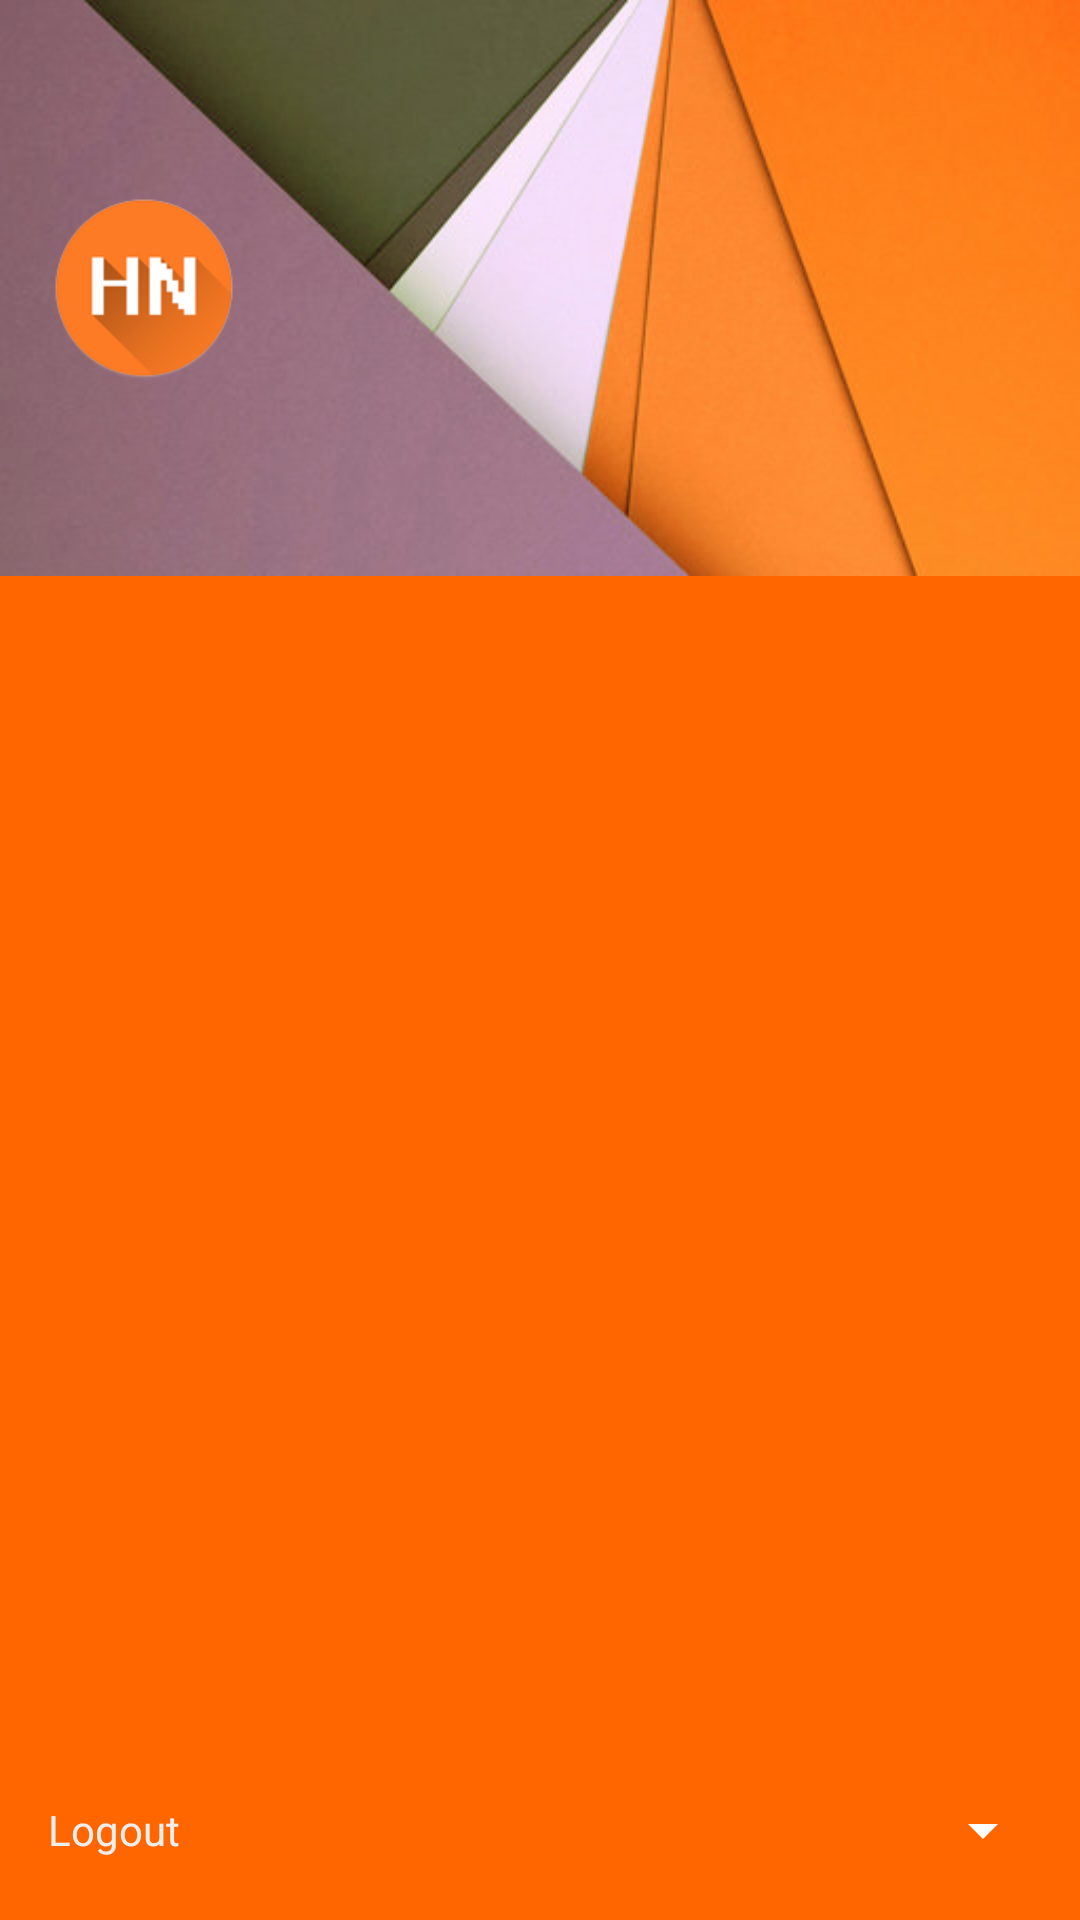

Icons on this 1080px×1920px Android screen, each with the point to tap as [x,y]:
expander open: [983,1831]
